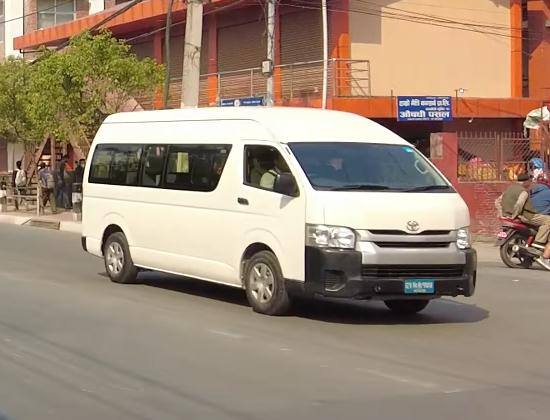micro_bus: (78, 107, 484, 326)
